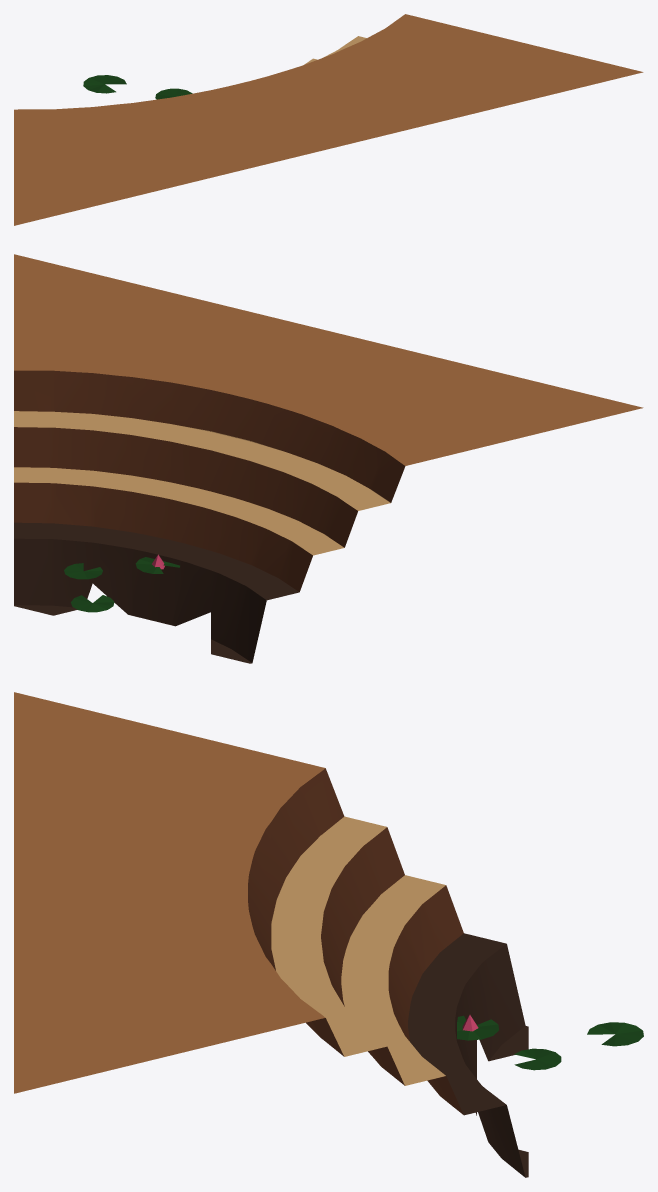
The model's file is MODULE_STEPWELL_SHORT_OUT.fbx.
The picture shows the model from 3 angles, top to bottom: view 1: azimuth 30°, elevation 25°; view 2: azimuth 150°, elevation 25°; view 3: azimuth 270°, elevation 25°; orthographic projection. The views are drawn at different scales.
Parts seen in each view (by area): view 1: MODULE_STEPWELL_SHORT_OUT__export, MODULE_STEPWELL_SHORT_OUT_DECOR__export; view 2: MODULE_STEPWELL_SHORT_OUT__export, MODULE_STEPWELL_SHORT_OUT_DECOR__export; view 3: MODULE_STEPWELL_SHORT_OUT__export, MODULE_STEPWELL_SHORT_OUT_DECOR__export.
Boxes of the visible parts, bbox=[...] form: MODULE_STEPWELL_SHORT_OUT__export: bbox=[14, 14, 643, 225]; MODULE_STEPWELL_SHORT_OUT_DECOR__export: bbox=[83, 75, 192, 99]; MODULE_STEPWELL_SHORT_OUT__export: bbox=[14, 254, 643, 663]; MODULE_STEPWELL_SHORT_OUT_DECOR__export: bbox=[64, 554, 179, 612]; MODULE_STEPWELL_SHORT_OUT__export: bbox=[14, 692, 528, 1177]; MODULE_STEPWELL_SHORT_OUT_DECOR__export: bbox=[457, 1015, 643, 1070].
Bounding box in the file's own units: 100 × 24.25 × 66.26.
